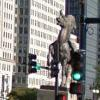Statue: (44, 6, 84, 90)
